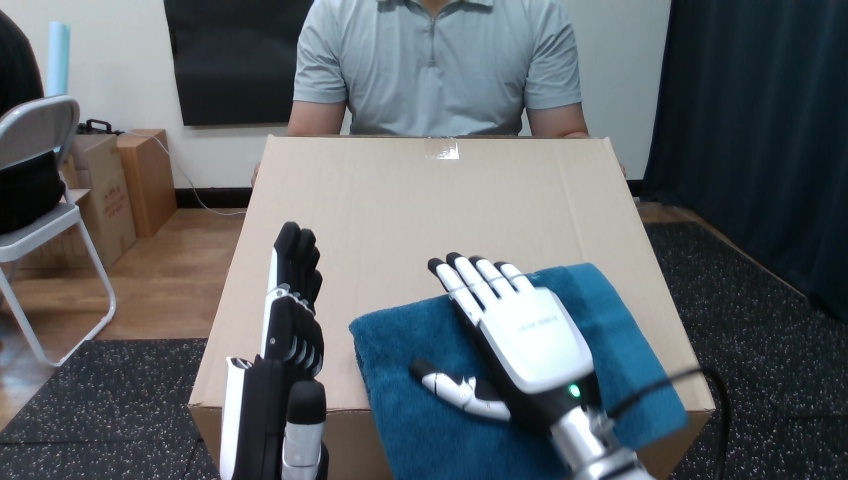left robot hand: (410, 253, 652, 479), (220, 222, 323, 479)
